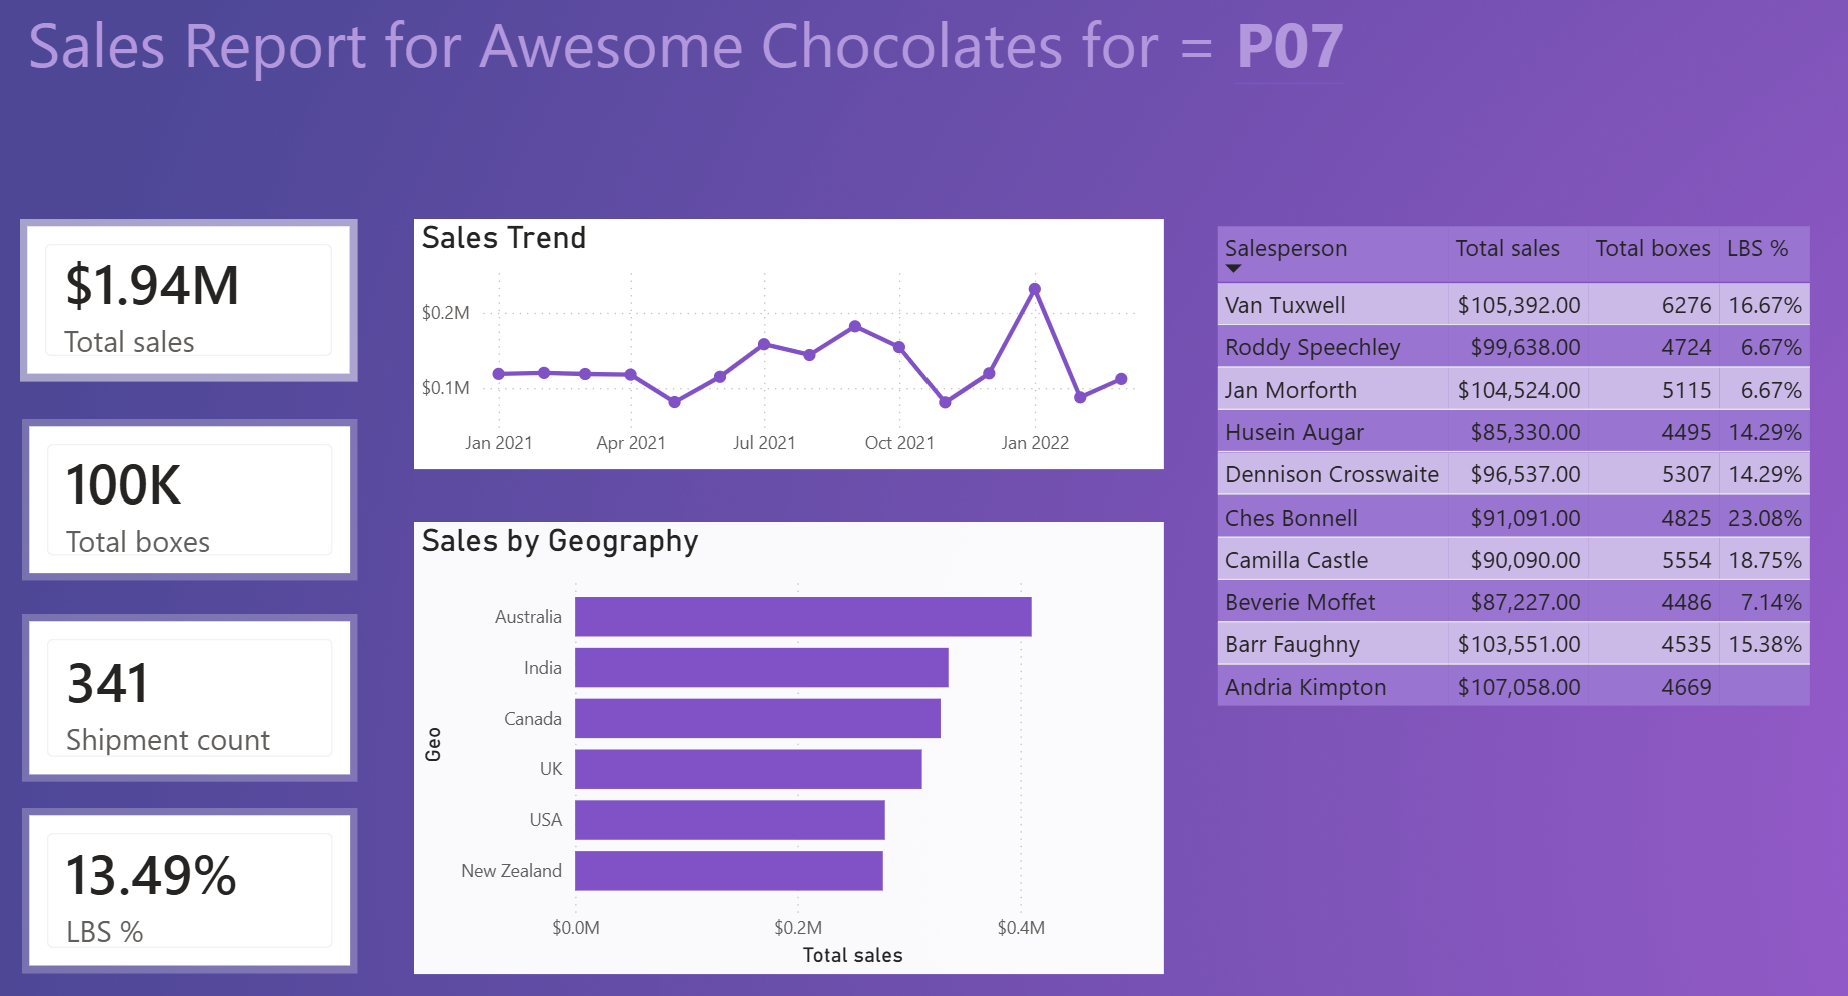

What the dashboard file says about the page in this screenshot:
{"tool":"powerbi","page":{"name":"Page 1","canvas":[1280,720],"ordinal":0},"visuals":[{"type":"cardVisual","fields":{"Data":["sales.Total sales"]},"box":[23.3,188.3,231.7,111.7],"z":0},{"type":"cardVisual","fields":{"Data":["sales.Total boxes"]},"box":[25,325,230,110],"z":1000},{"type":"cardVisual","fields":{"Data":["sales.Shipment count"]},"box":[25,458.3,230,115],"z":2000},{"type":"cardVisual","fields":{"Data":["sales.LBS %"]},"box":[25,591.7,230,113.3],"z":3000},{"type":"lineChart","title":"Sales Trend","fields":{"Y":["sales.Total sales"],"Category":["sales.SaleDate.Variation.Date Hierarchy.Year","sales.SaleDate.Variation.Date Hierarchy.Quarter","sales.SaleDate.Variation.Date Hierarchy.Month"]},"box":[293.3,188.3,513.3,171.7],"z":4000},{"type":"barChart","title":"Sales by Geography","fields":{"Category":["geo.Geo"],"Y":["sales.Total sales"]},"box":[293.3,395,513.3,310],"z":5000},{"type":"tableEx","fields":{"Values":["people.Salesperson","sales.Total sales","sales.Total boxes","sales.LBS %"]},"box":[838.3,188.3,441.7,493.3],"z":6000},{"type":"textbox","box":[23.3,33.3,1256.7,118.3],"z":7000}]}

Visuals, with their boxes in screenshot pixels (x1, y1, x2, y2):
cardVisual - sales.Total sales: x1=15, y1=214, x2=355, y2=377
cardVisual - sales.Total boxes: x1=17, y1=414, x2=355, y2=575
cardVisual - sales.Shipment count: x1=17, y1=610, x2=355, y2=778
cardVisual - sales.LBS %: x1=17, y1=805, x2=355, y2=971
"Sales Trend" lineChart: x1=411, y1=214, x2=1164, y2=465
"Sales by Geography" barChart: x1=411, y1=517, x2=1164, y2=971
tableEx - people.Salesperson x sales.Total sales: x1=1210, y1=214, x2=1847, y2=937
textbox: x1=15, y1=0, x2=1847, y2=160
